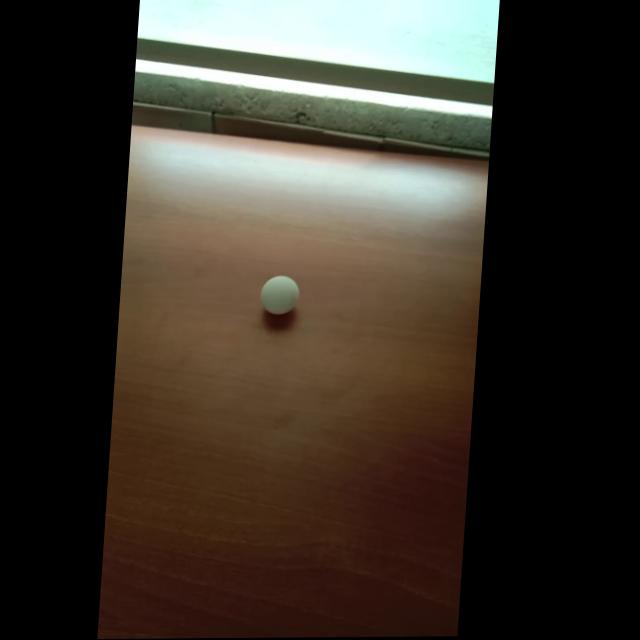white ball: (258, 275, 301, 315)
